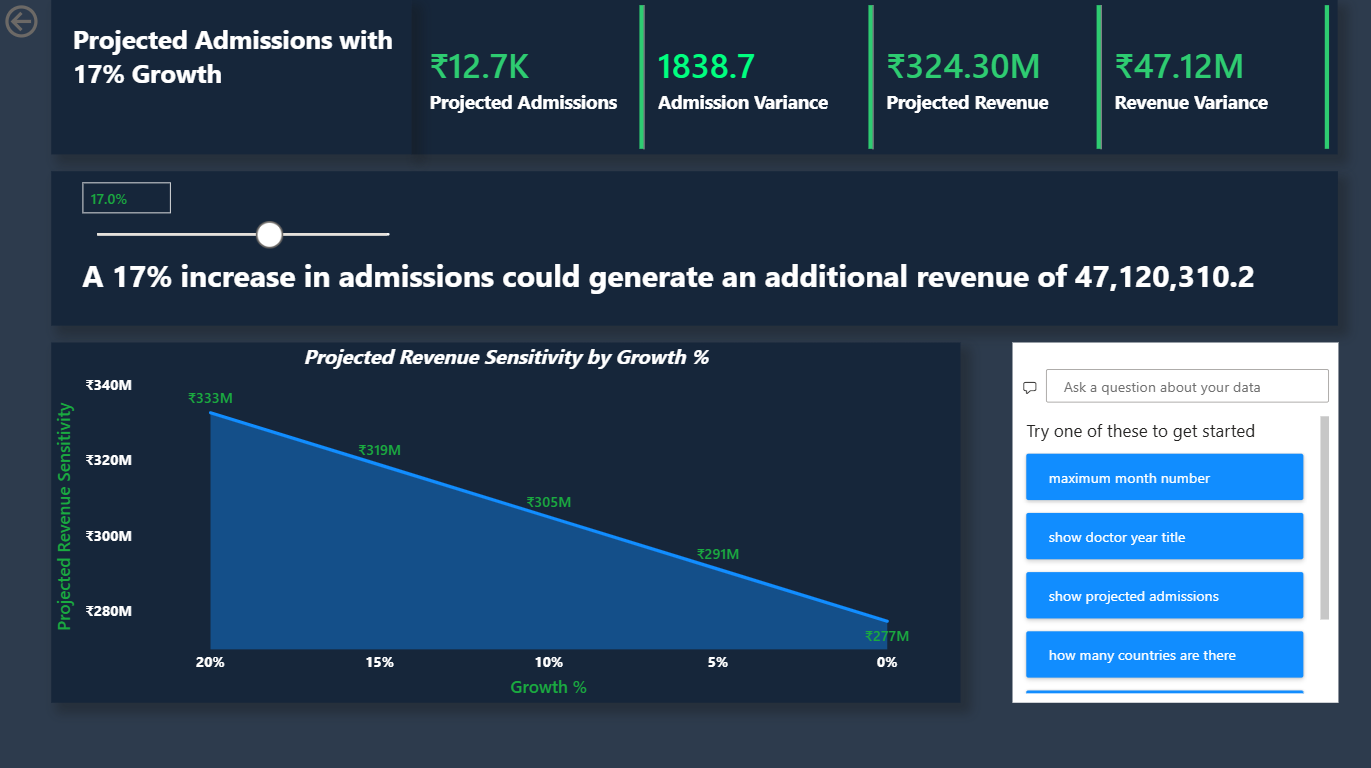

This screenshot's page, from the dashboard's own definition file:
{"tool":"powerbi","page":{"name":"Scenario & What-if Simulation","canvas":[1280,720],"ordinal":2},"visuals":[{"type":"actionButton","box":[0,0,100,40],"z":0},{"type":"cardVisual","title":"Doctor Revenue","fields":{"Data":["Measures (2).Projected Admissions","Admission Growth %.Admission Variance","Measures (2).Projected Revenue","Measures (2).Revenue Variance"]},"box":[384,0,864,144],"z":1000},{"type":"textbox","box":[48,0,336,144],"z":2000},{"type":"group","id":"g1","title":"Group 1","box":[48,160,1200,144],"z":4000},{"type":"qnaVisual","box":[944,320,304,336],"z":5000},{"type":"cardVisual","title":"Insight","fields":{"Data":["Measures (2).WhatIf Insight"]},"box":[48,160,1200,144],"z":6000,"group":"g1"},{"type":"lineChart","fields":{"Category":["GrowthSensitivity.Growth %"],"Y":["GrowthSensitivity.Projected Revenue Sensitivity"]},"box":[48,320,848,336],"z":6000},{"type":"slicer","fields":{"Values":["Admission Growth %.Admission Growth %"]},"box":[64,160,320,96],"z":9000,"group":"g1"}]}

Visuals, with their boxes in screenshot pixels (x1, y1, x2, y2), scaled from the page's 1280x720 canvas onto the 1371x768 screenshot:
actionButton: <region>0, 0, 107, 43</region>
"Doctor Revenue" cardVisual: <region>411, 0, 1337, 154</region>
textbox: <region>51, 0, 411, 154</region>
"Group 1" group: <region>51, 171, 1337, 324</region>
qnaVisual: <region>1011, 341, 1337, 700</region>
"Insight" cardVisual: <region>51, 171, 1337, 324</region>
lineChart - GrowthSensitivity.Growth % x GrowthSensitivity.Projected Revenue Sensitivity: <region>51, 341, 960, 700</region>
slicer - Admission Growth %.Admission Growth %: <region>69, 171, 411, 273</region>
